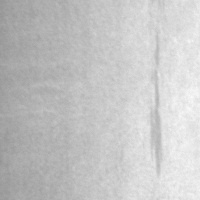inclusion: (142, 23, 169, 184)
